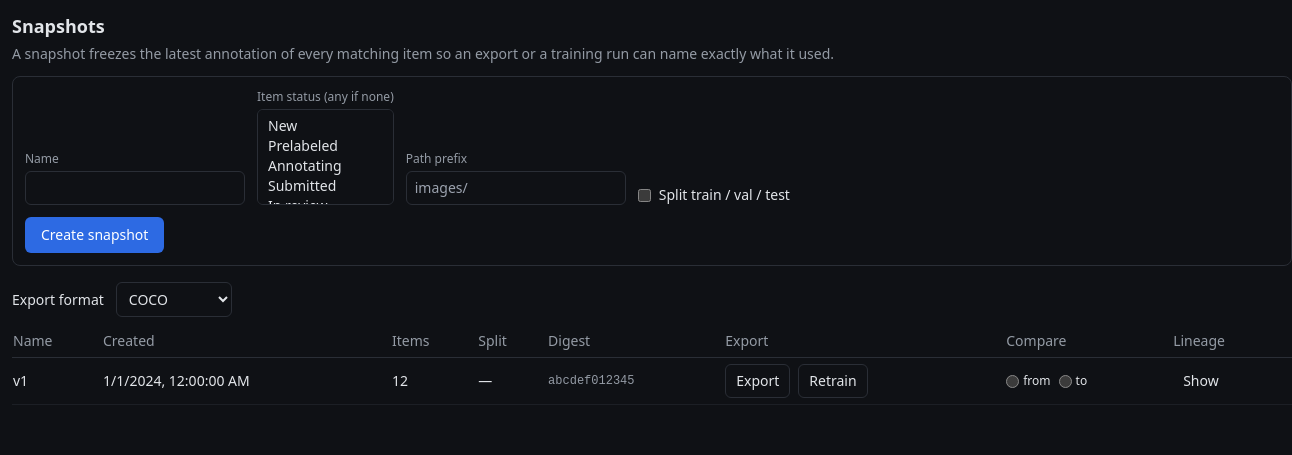
Scenario: SnapshotsPanel › shows the model versions trained on a snapshot when its lineage is expanded
The image size is (1292, 455).
Step 1. Click the button with aria-label "Lineage of v1" → (1201, 381), box [1173, 365, 1229, 397]
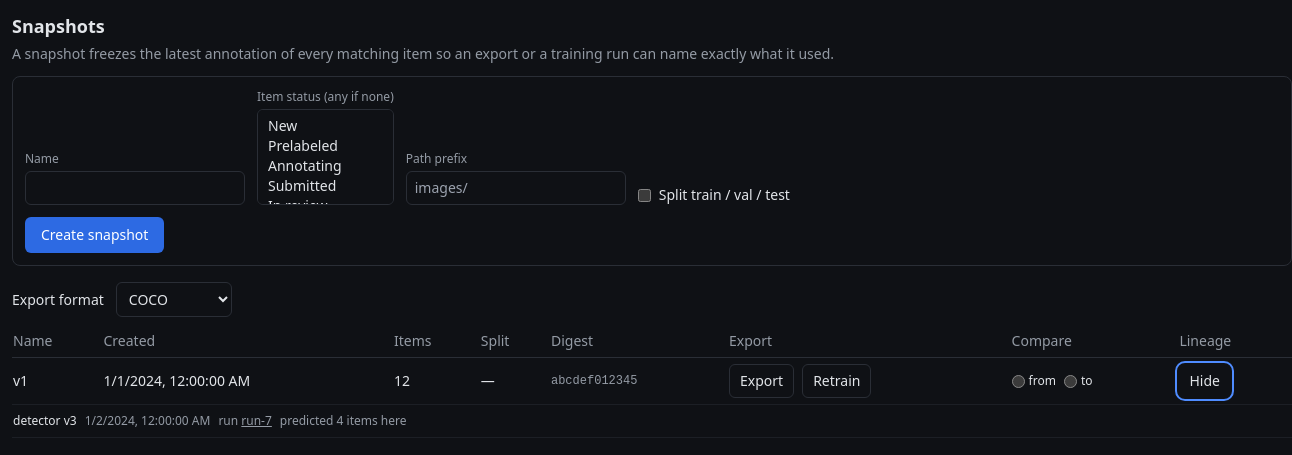
Expected: the list with test id "lineage-s1" shows "detector v3", [13, 412, 406, 429]
Expected: the list with test id "lineage-s1" shows "predicted 4 items here", [280, 412, 406, 429]
